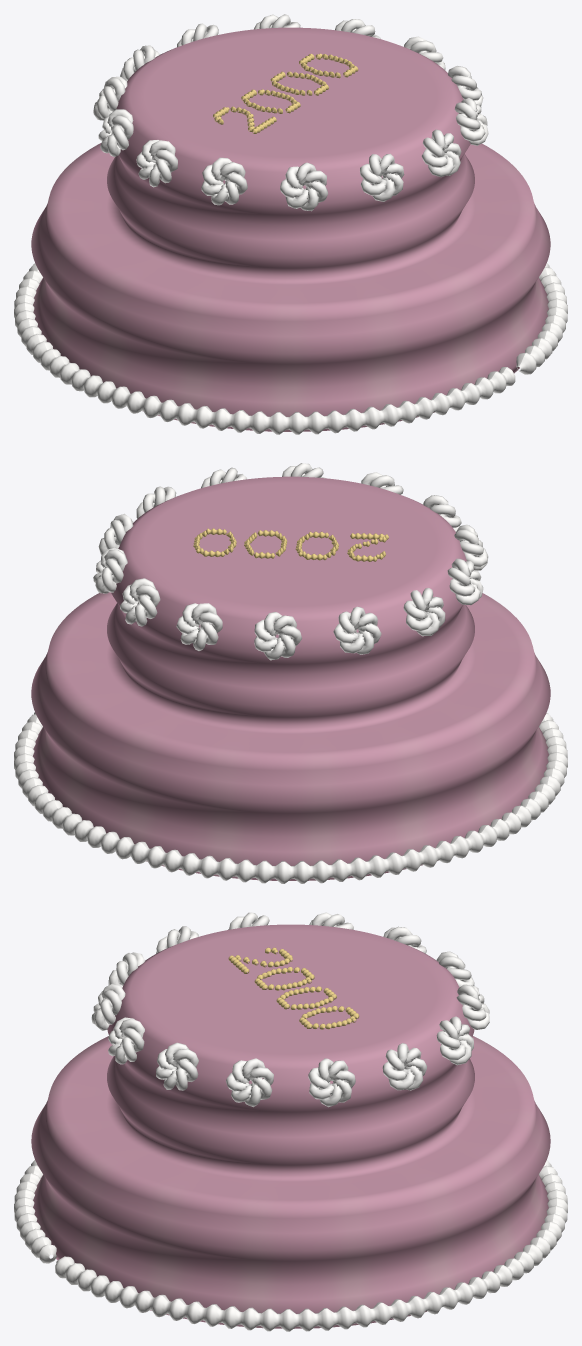
Rendered from cake.glb.
3 renders of one model, top to bottom at view 1: azimuth 30°, elevation 25°; view 2: azimuth 150°, elevation 25°; view 3: azimuth 270°, elevation 25°, orthographic.
Bounding box in the file's own units: 0.2933 × 0.1392 × 0.2933.
